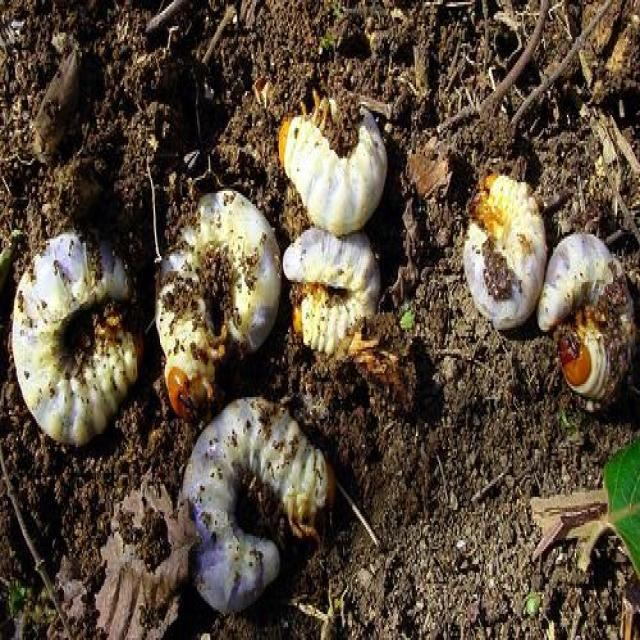grub: (178, 394, 339, 615), (11, 226, 145, 449), (157, 189, 283, 412), (277, 93, 409, 234), (538, 233, 640, 406), (280, 221, 385, 362), (460, 176, 548, 338)
